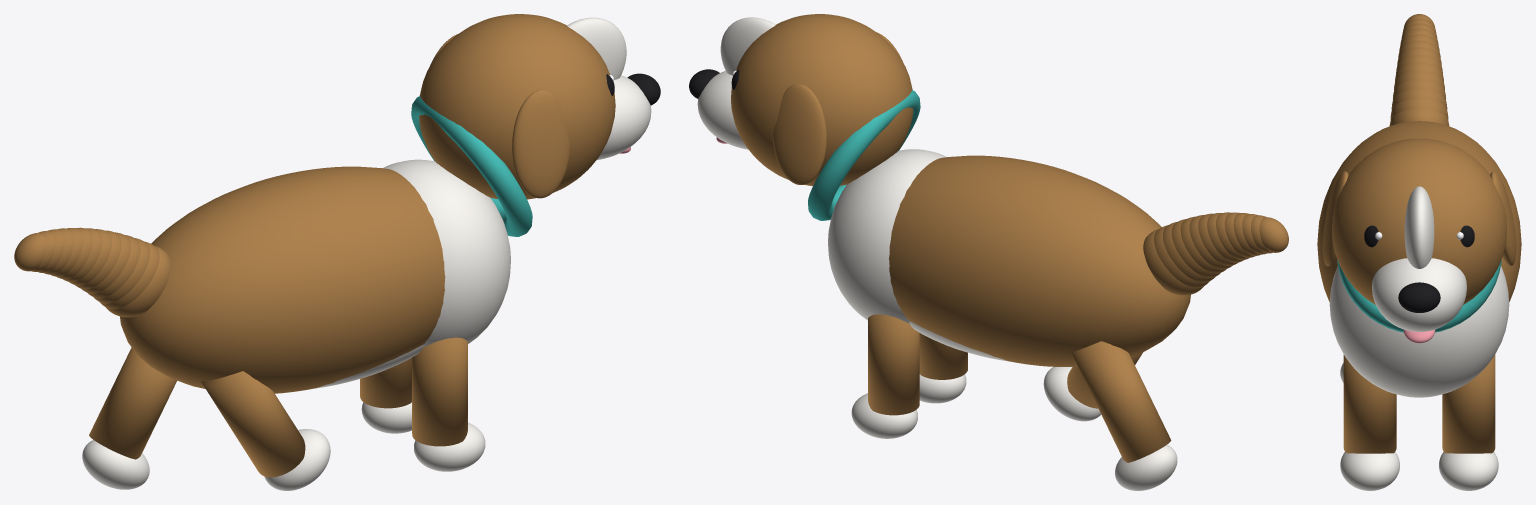
The model's file is beagle.glb.
3 renders of one model, left to right at view 1: azimuth 30°, elevation 25°; view 2: azimuth 150°, elevation 25°; view 3: azimuth 270°, elevation 25°, orthographic. The views are drawn at different scales.
Parts seen in each view (by area): view 1: Body, Head, Chest, Leg3, Leg1, Leg2, Ear-1, Collar, Muzzle, Paw2, Leg0, Paw1 (+9 smaller); view 2: Body, Head, Chest, Leg2, Leg0, Ear1, Collar, Muzzle, Paw2, Leg1, Paw0, Blaze (+8 smaller); view 3: Head, Chest, Body, Muzzle, Leg0, Leg1, Blaze, Paw0, Paw1, Collar, Nose, Ear1 (+15 smaller).
Part boxes in pixels (left/top/right/bottom): Body: left=120, top=166, right=445, bottom=393; Head: left=419, top=14, right=615, bottom=199; Chest: left=383, top=159, right=510, bottom=347; Leg3: left=201, top=371, right=305, bottom=477; Leg1: left=412, top=337, right=467, bottom=446; Leg2: left=89, top=347, right=176, bottom=459; Ear-1: left=512, top=89, right=570, bottom=198; Collar: left=411, top=96, right=532, bottom=236; Muzzle: left=596, top=75, right=651, bottom=160; Paw2: left=82, top=440, right=149, bottom=489; Leg0: left=360, top=357, right=411, bottom=408; Paw1: left=414, top=422, right=485, bottom=471; Body: left=889, top=155, right=1190, bottom=366; Head: left=731, top=14, right=913, bottom=186; Chest: left=828, top=149, right=946, bottom=323; Leg2: left=1072, top=341, right=1171, bottom=462; Leg0: left=868, top=314, right=919, bottom=415; Ear1: left=772, top=84, right=826, bottom=184; Collar: left=808, top=90, right=920, bottom=220; Muzzle: left=697, top=71, right=748, bottom=149; Paw2: left=1115, top=444, right=1177, bottom=490; Leg1: left=919, top=333, right=967, bottom=379; Paw0: left=851, top=393, right=917, bottom=438; Blaze: left=720, top=17, right=775, bottom=74; Head: left=1332, top=138, right=1506, bottom=304; Chest: left=1329, top=266, right=1509, bottom=397; Body: left=1317, top=121, right=1521, bottom=301; Muzzle: left=1372, top=258, right=1466, bottom=331; Leg0: left=1442, top=354, right=1495, bottom=453; Leg1: left=1343, top=354, right=1396, bottom=453; Blaze: left=1404, top=186, right=1434, bottom=268; Paw0: left=1439, top=452, right=1498, bottom=490; Paw1: left=1340, top=452, right=1399, bottom=490; Collar: left=1337, top=260, right=1501, bottom=332; Nose: left=1398, top=282, right=1440, bottom=312; Ear1: left=1490, top=171, right=1516, bottom=266.
Size of the model in its own units: 1.99 by 1.2 by 0.58.
